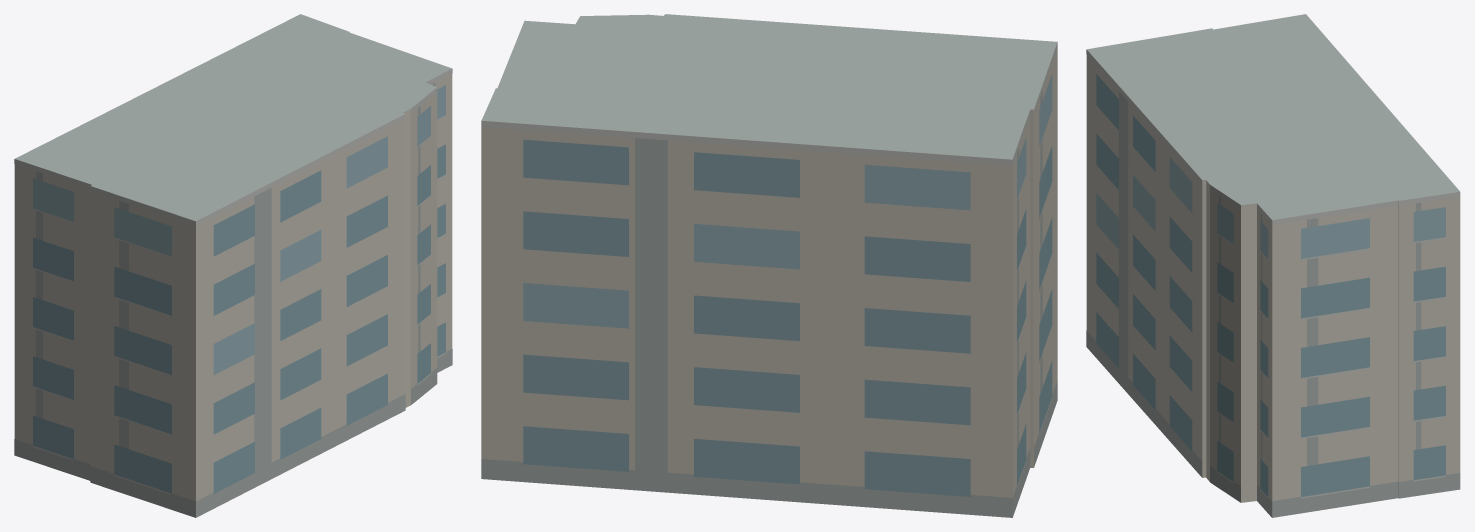
The model's file is survey-upis-32838069.glb.
3 renders of one model, left to right at view 1: azimuth 30°, elevation 25°; view 2: azimuth 150°, elevation 25°; view 3: azimuth 270°, elevation 25°, orthographic. The views are drawn at different scales.
Visible parts, largest first — view 1: survey-upis-32838069.tmp; view 2: survey-upis-32838069.tmp; view 3: survey-upis-32838069.tmp.
Boxes of the visible parts, x1,y1,x2,y2 form: survey-upis-32838069.tmp: (14,14,452,517); survey-upis-32838069.tmp: (481,14,1057,517); survey-upis-32838069.tmp: (1086,14,1460,517).
Bounding box in the file's own units: 21.18 × 14.25 × 16.23.
